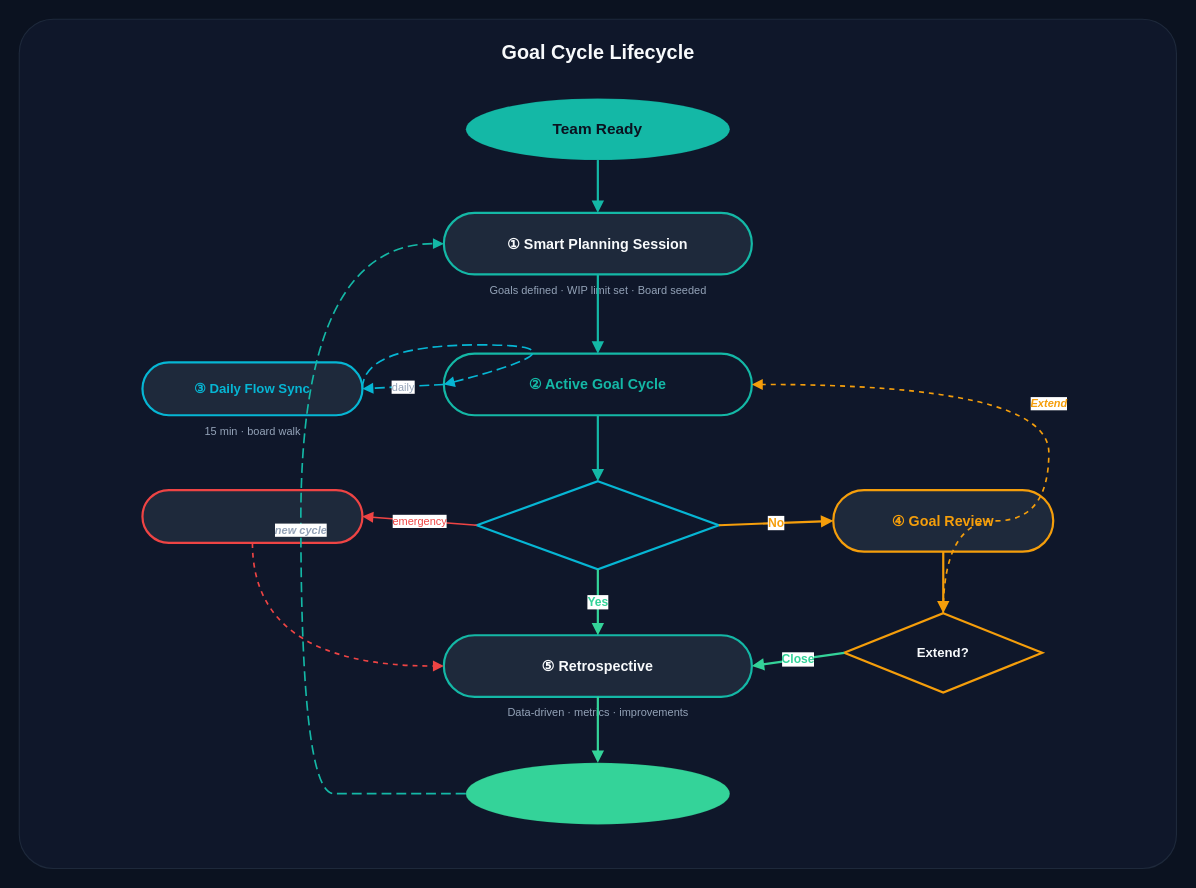
Image size: 1196x888. Some labels were removed from this diagram. The centre of each missing label's shape, as x and y in pixels:
"Emergency Closure" goes at point (252, 515).
"Goals Met?" goes at point (597, 525).
"Next Goal Cycle →" goes at point (597, 793).
